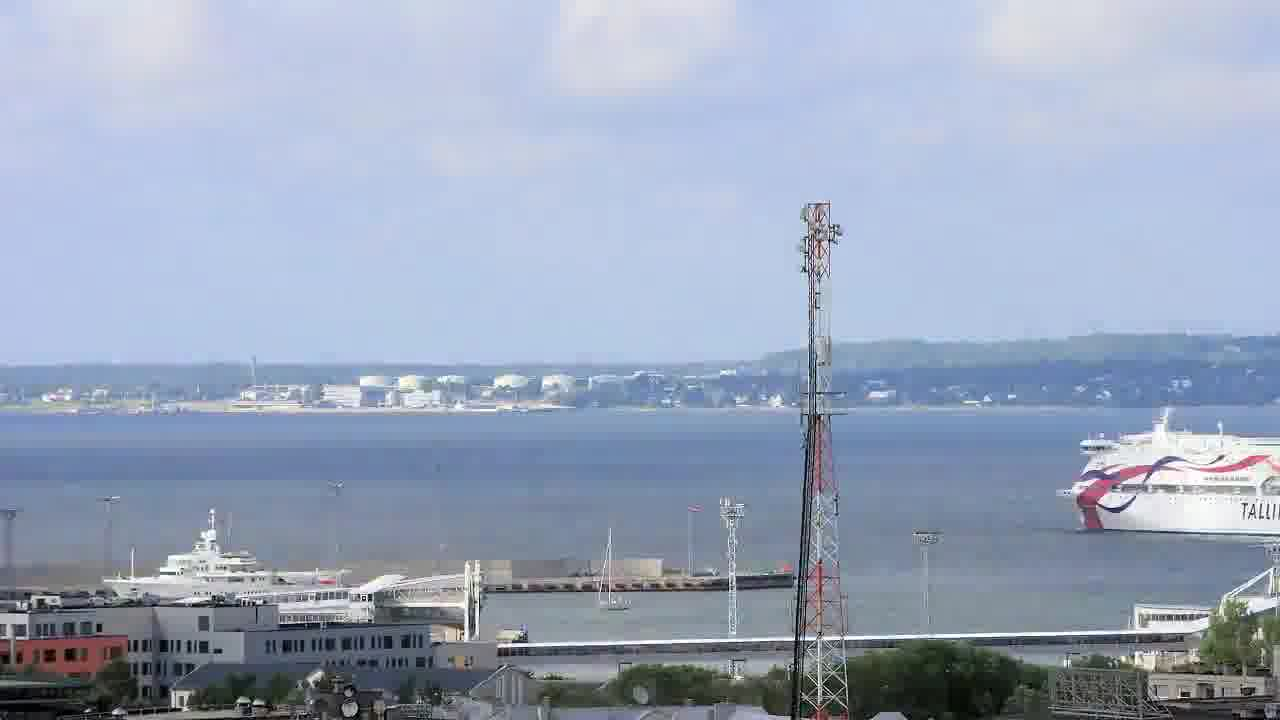type-0: (588, 514, 643, 615)
type-3: (1041, 408, 1280, 555), (96, 508, 381, 605)
